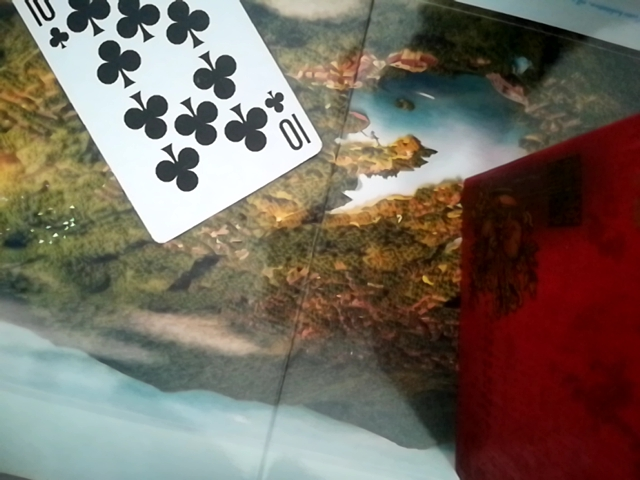mh 10: (28, 0, 322, 248)
